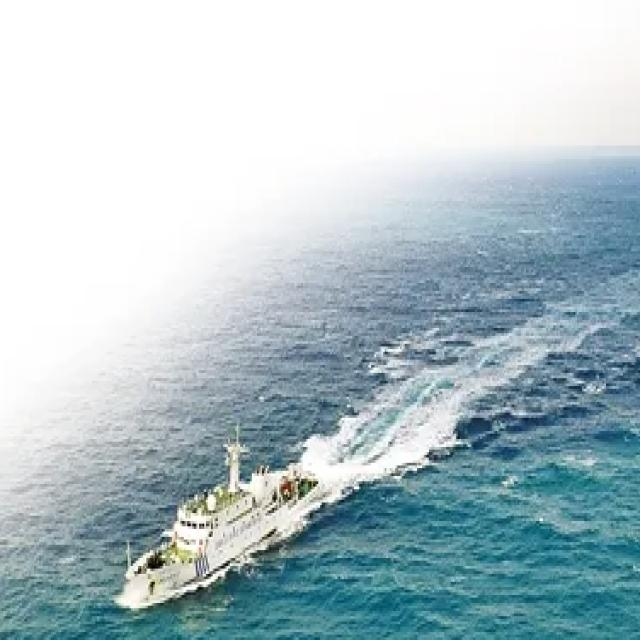passenger ship: (120, 434, 320, 614)
